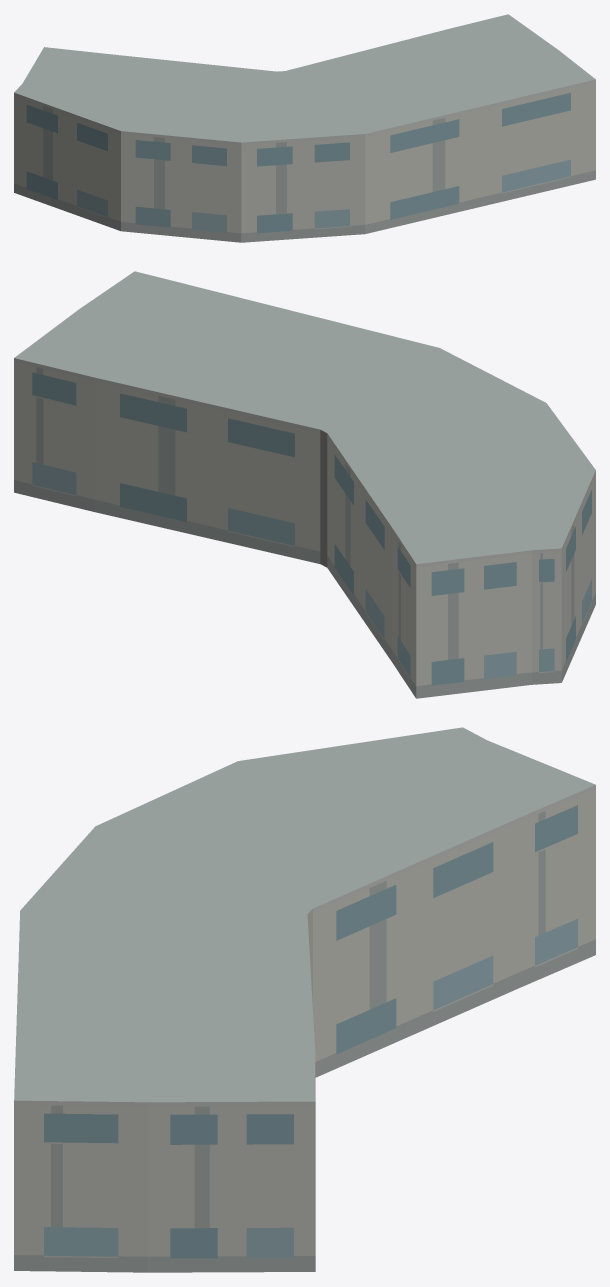
The model's file is survey-upis-32943564.glb.
3 renders of one model, top to bottom at view 1: azimuth 30°, elevation 25°; view 2: azimuth 150°, elevation 25°; view 3: azimuth 270°, elevation 25°, orthographic. The views are drawn at different scales.
Visible parts, largest first — view 1: survey-upis-32943564.tmp; view 2: survey-upis-32943564.tmp; view 3: survey-upis-32943564.tmp.
Boxes of the visible parts, x1=… form: survey-upis-32943564.tmp: x1=14, y1=14, x2=595, y2=242; survey-upis-32943564.tmp: x1=14, y1=271, x2=595, y2=698; survey-upis-32943564.tmp: x1=14, y1=727, x2=595, y2=1272.
Size of the model in its own units: 43.22 by 9.15 by 28.34.
